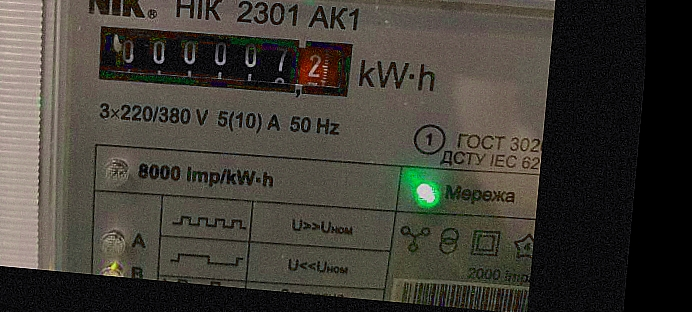0: (179, 38, 200, 66), (149, 37, 169, 66), (241, 40, 260, 70), (118, 36, 138, 64), (211, 39, 229, 67)
2: (306, 50, 324, 80)
7: (271, 44, 290, 74)
screen: (87, 12, 366, 108)
